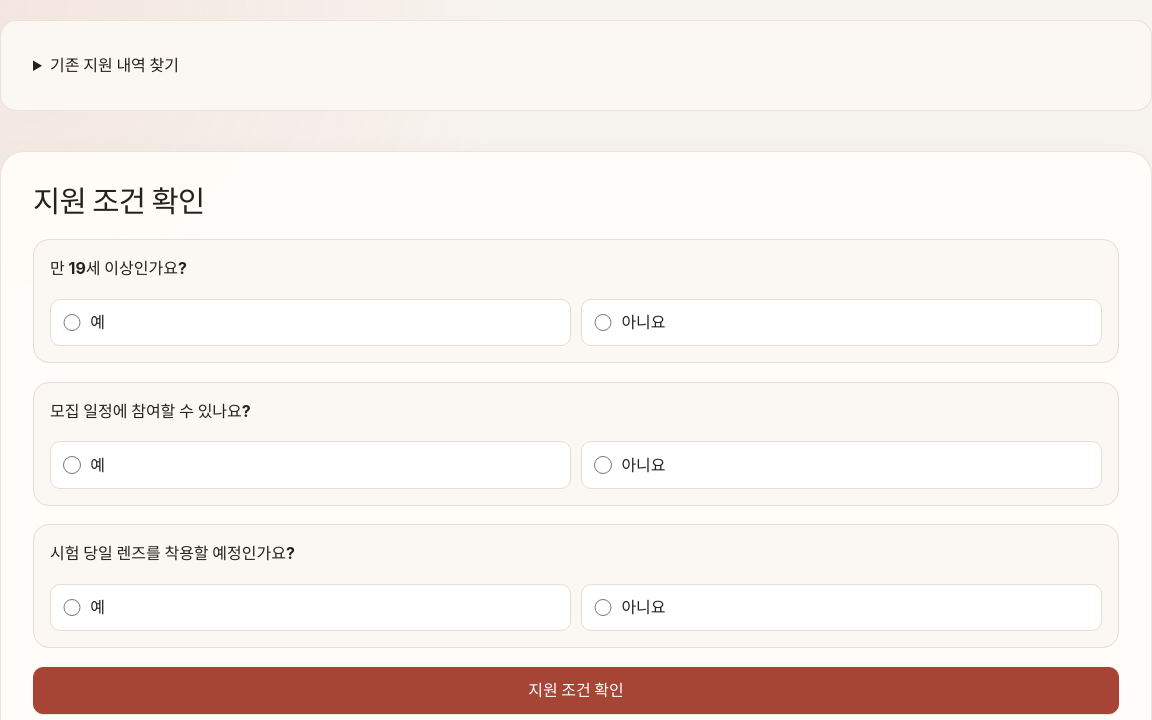
Test: explains the exact deterministic hard failure without requesting a photo
Step 1. Click the 1st radio button labelled "아니요" → (603, 323), box [594, 314, 612, 332]
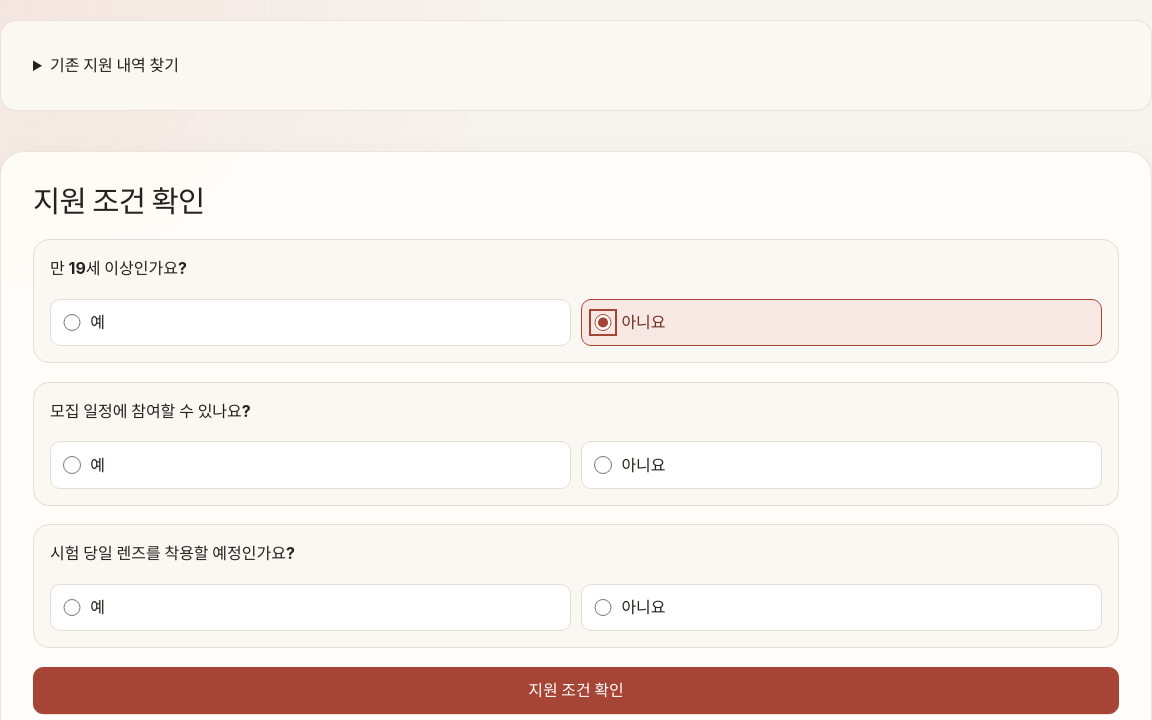
Step 2. Click the radio button labelled "예" below "모집 일정에 참여할 수 있나요?" → (72, 465), box [63, 456, 81, 474]
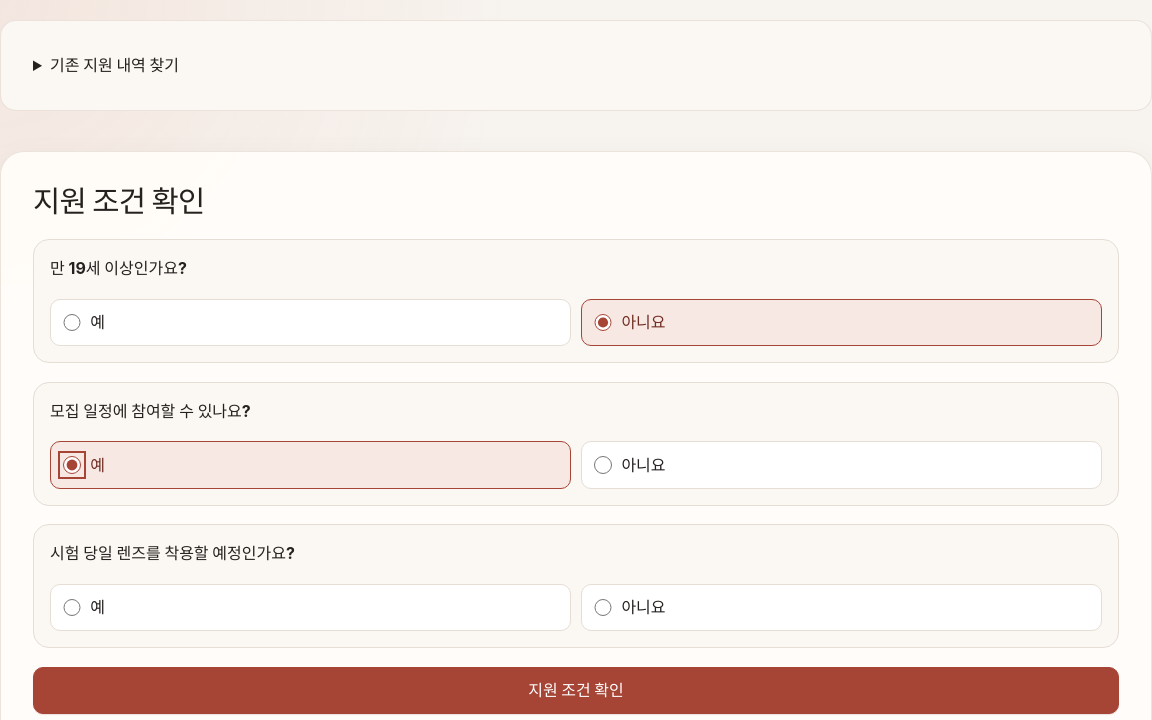
Step 3. Click the 3rd radio button labelled "아니요" → (603, 607), box [594, 599, 612, 616]
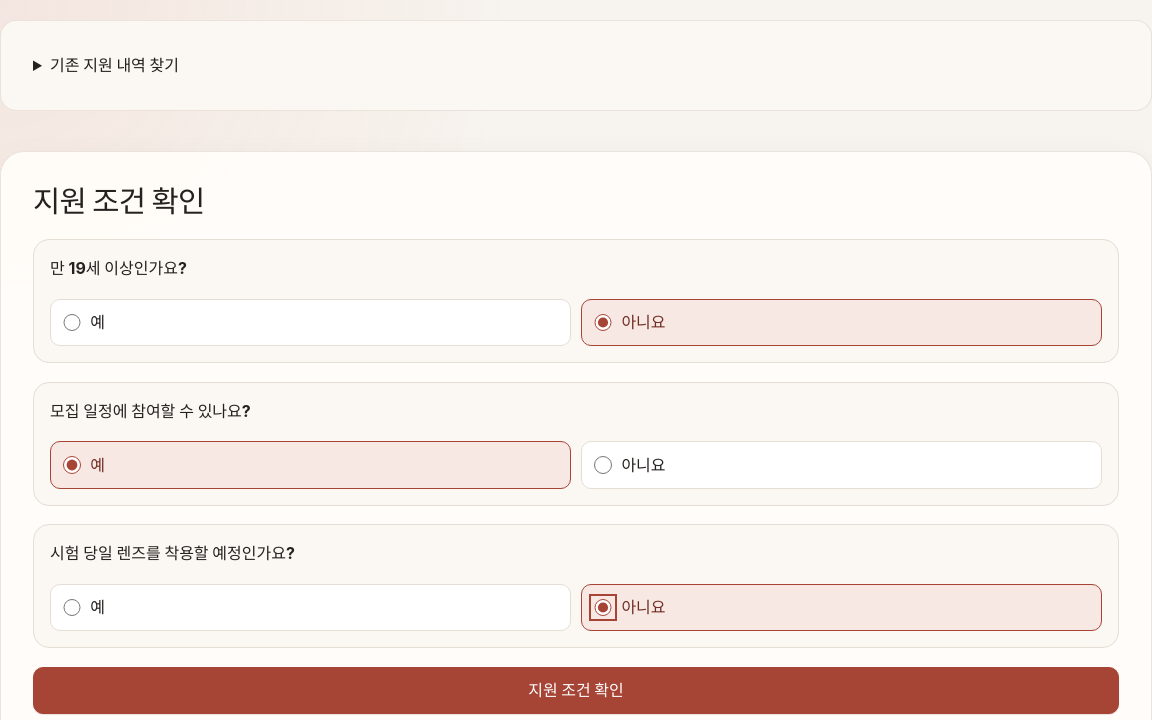
Step 4. Click the button "지원 조건 확인" → (576, 690), box [33, 667, 1119, 714]
(page scrolled)
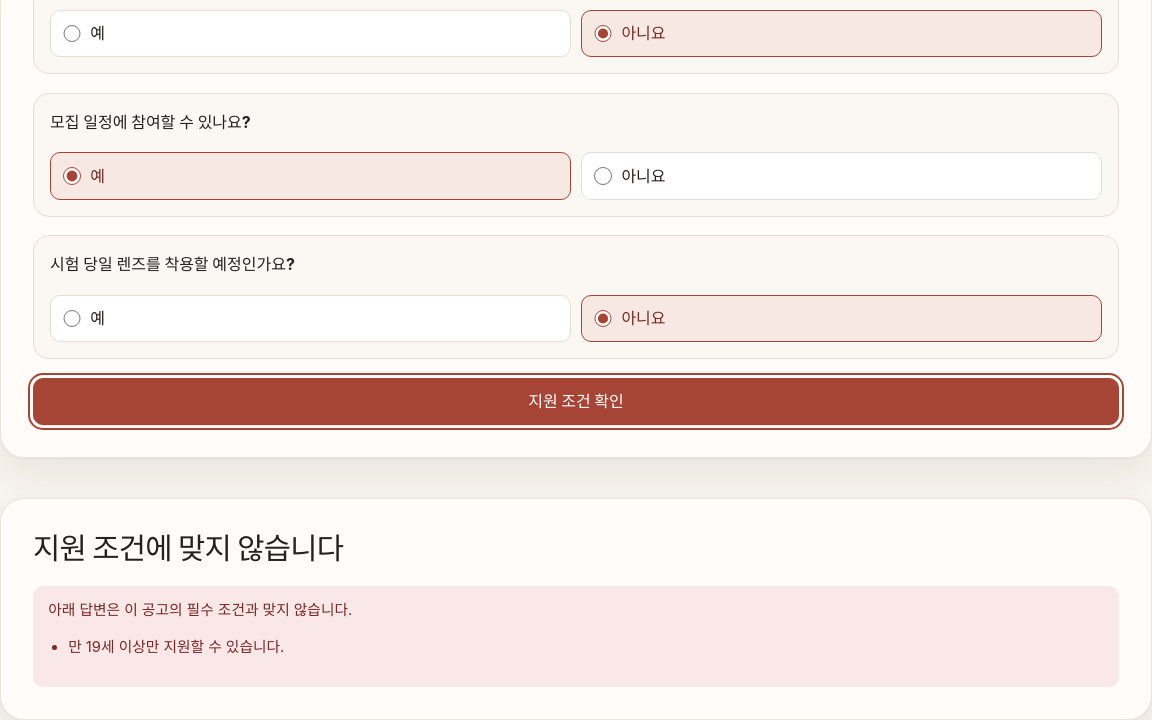
Result: the list item "만 19세 이상만 지원할 수 있습니다." is shown at [68, 638, 284, 656]
